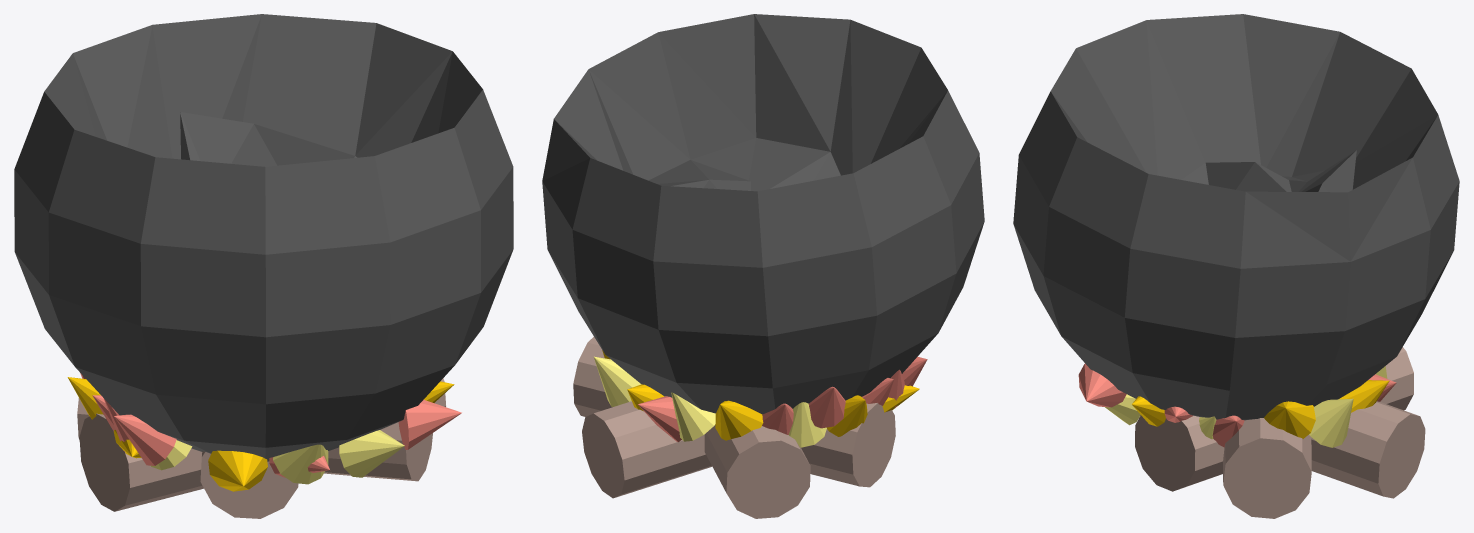
File: cauldron#0000.fbx
3 views of the same model, side by side, from view 1: azimuth 30°, elevation 25°; view 2: azimuth 150°, elevation 25°; view 3: azimuth 270°, elevation 25° (orthographic). The views are drawn at different scales.
Parts seen in each view (by area): view 1: group1418811784, group1412104035, group298934467, group521055622, group659144772, group1276378411, group2035326091, group609549256, group450944295, group1271145103; view 2: group1418811784, group298934467, group521055622, group1412104035, group1663008688, group1860161881, group1545725718, group1559698911, group1554362142, group1199527803, group1271145103, group1061372710 (+1 smaller); view 3: group1418811784, group298934467, group1412104035, group521055622, group1545725718, group1941261339, group2035326091, group1506253958, group175495728, group1391120664, group1276378411.
Part boxes in pixels (x1,y1,x2,y2): group1418811784: (14,14,513,461); group1412104035: (79,378,445,511); group298934467: (200,451,298,518); group521055622: (77,398,432,481); group659144772: (208,450,267,491); group1276378411: (339,430,404,477); group2035326091: (398,399,461,449); group609549256: (114,414,176,465); group450944295: (273,444,328,484); group1271145103: (67,377,103,419); group1418811784: (542,14,984,414); group298934467: (582,401,711,498); group521055622: (704,425,810,518); group1412104035: (573,337,895,487); group1663008688: (715,400,763,440); group1860161881: (671,392,715,441); group1545725718: (594,356,641,406); group1559698911: (808,386,845,428); group1554362142: (788,402,826,447); group1199527803: (638,396,681,442); group1271145103: (827,395,867,436); group1061372710: (762,403,793,434); group1418811784: (1013,14,1459,420); group298934467: (1311,401,1425,498); group1412104035: (1223,418,1311,518); group521055622: (1135,347,1413,491); group1545725718: (1309,398,1353,447); group1941261339: (1264,401,1315,438); group2035326091: (1078,363,1126,407); group1506253958: (1339,380,1389,412); group175495728: (1212,415,1244,447); group1391120664: (1132,396,1165,426); group1276378411: (1105,394,1140,425).
Size of the model in its own units: 24.77 by 22.78 by 24.87.
